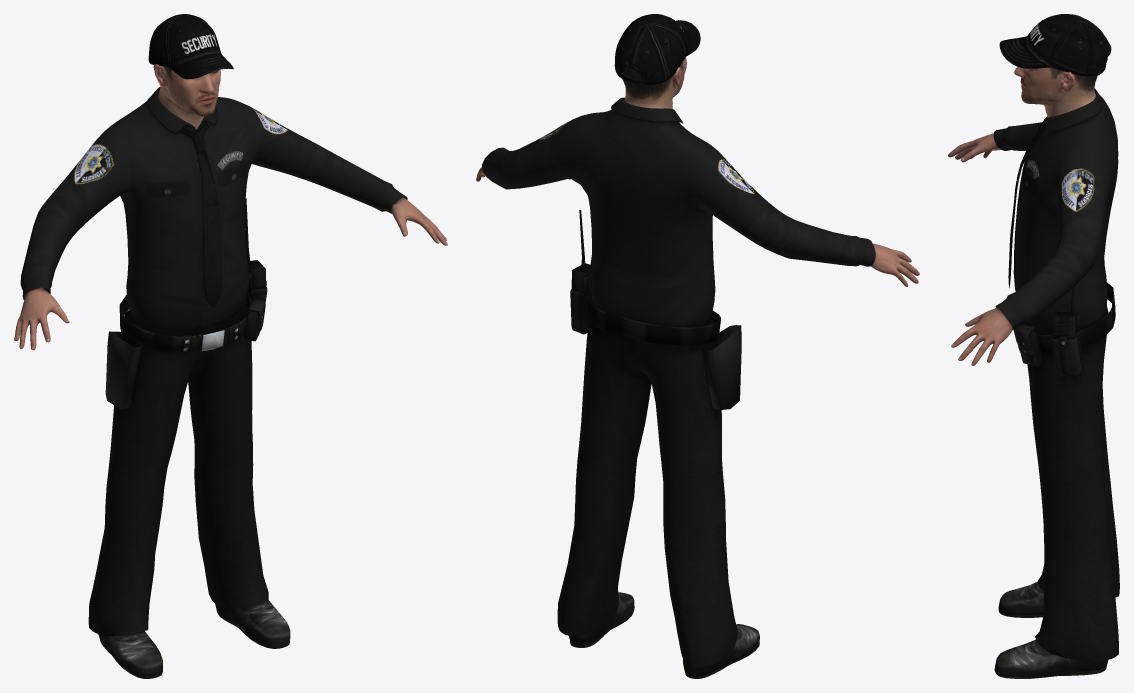
File: SEC1LOD2NR.FBX
The picture shows the model from 3 angles, left to right: view 1: azimuth 30°, elevation 25°; view 2: azimuth 150°, elevation 25°; view 3: azimuth 270°, elevation 25°; orthographic projection.
Visible parts, largest first — view 1: Officer001; view 2: Officer001; view 3: Officer001.
Part boxes in pixels (x1,y1,x2,y2): Officer001: (14,14,447,678); Officer001: (476,14,919,678); Officer001: (948,14,1119,678).
Bounding box in the file's own units: 52.8 × 73 × 18.18.
2 materials, 2 textured.
